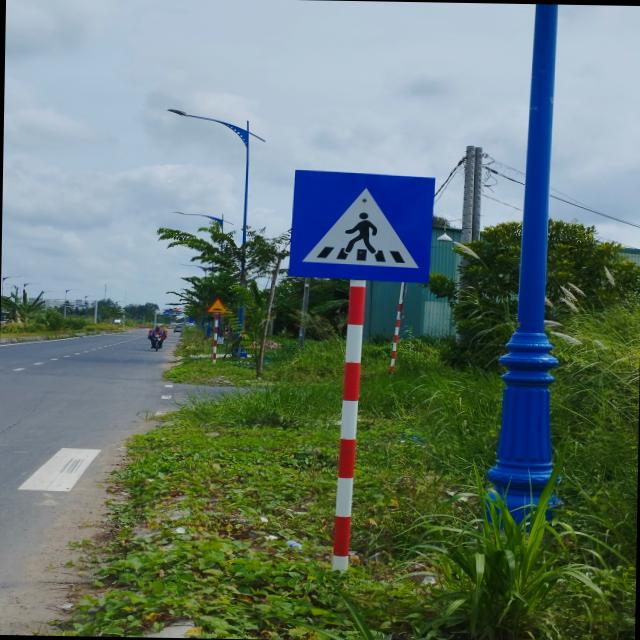Giao_Nhau_Duong_Uu_Tien: (289, 168, 436, 282)
